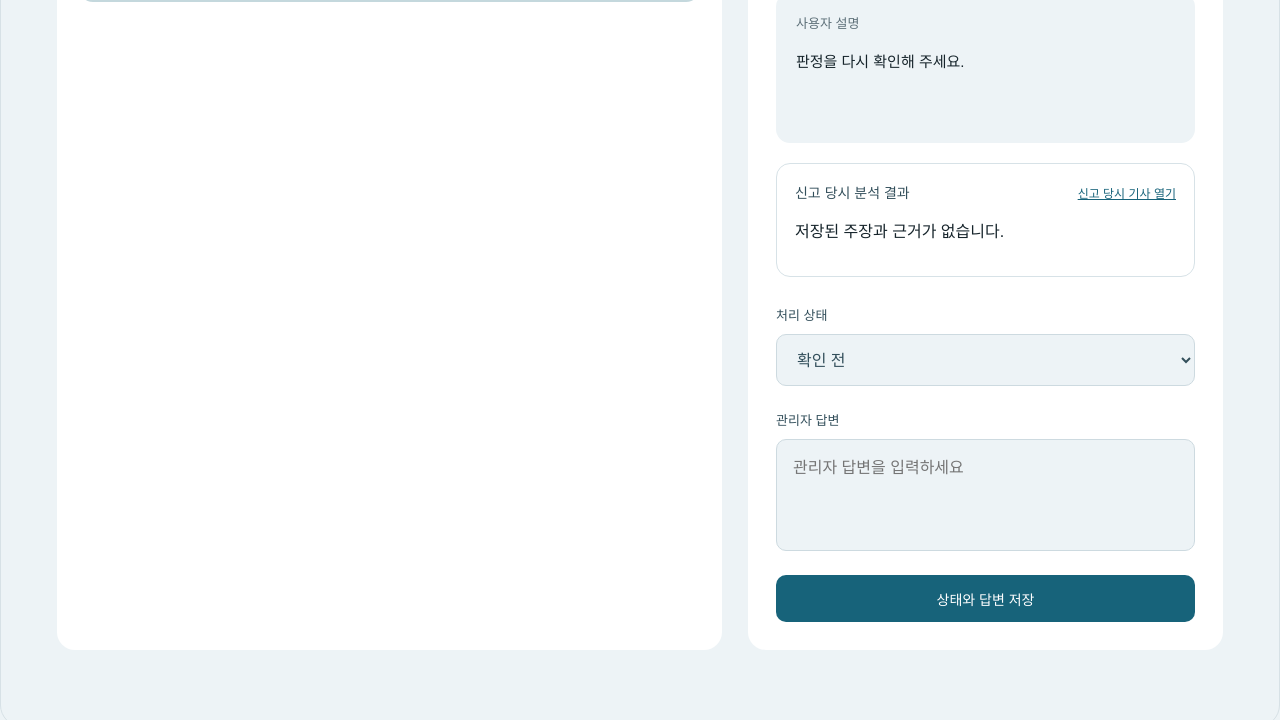
it: AdminReportsPage API › 충돌 후 최신 상세 조회가 실패하면 사용자가 다시 요청한다
(page scrolled)
Expected: the text "판정을 다시 확인해 주세요." is shown, [796,53,964,70]
Select "처리 완료" in the dropdown labelled "처리 상태" at [986, 360], box [776,334,1195,386]
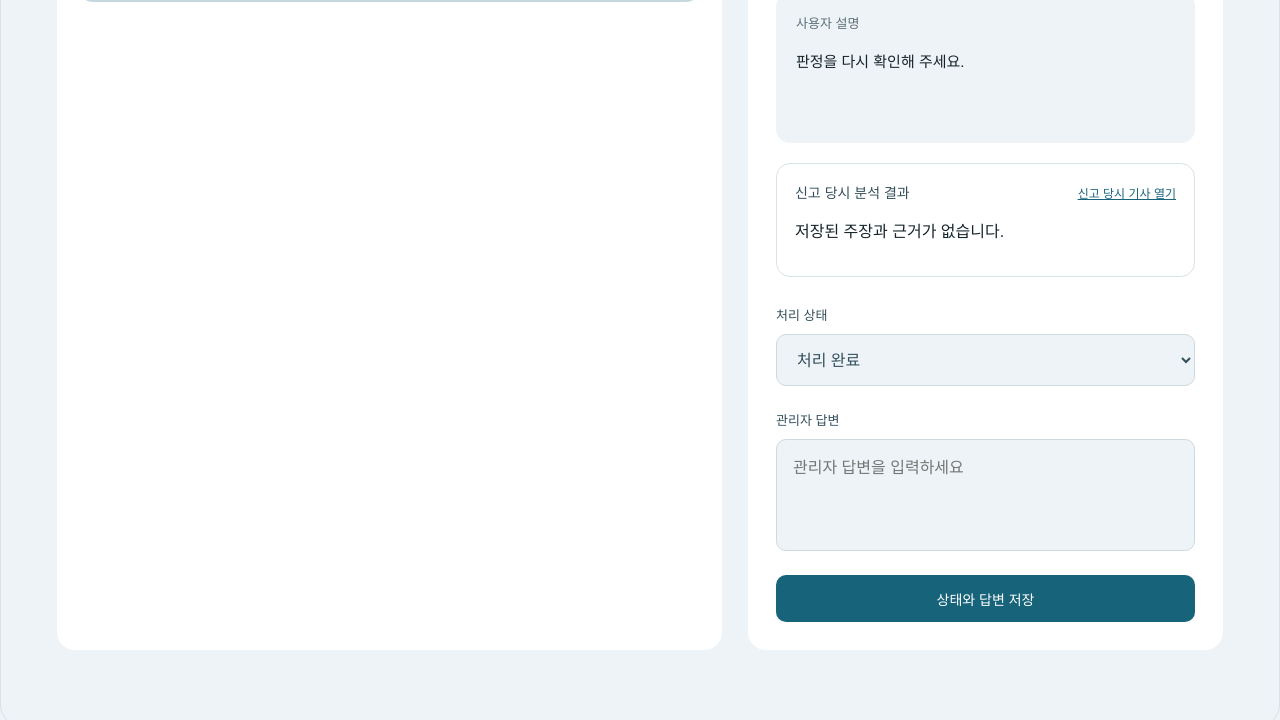
Click the button "상태와 답변 저장" at [986, 598], box [776,575,1195,622]
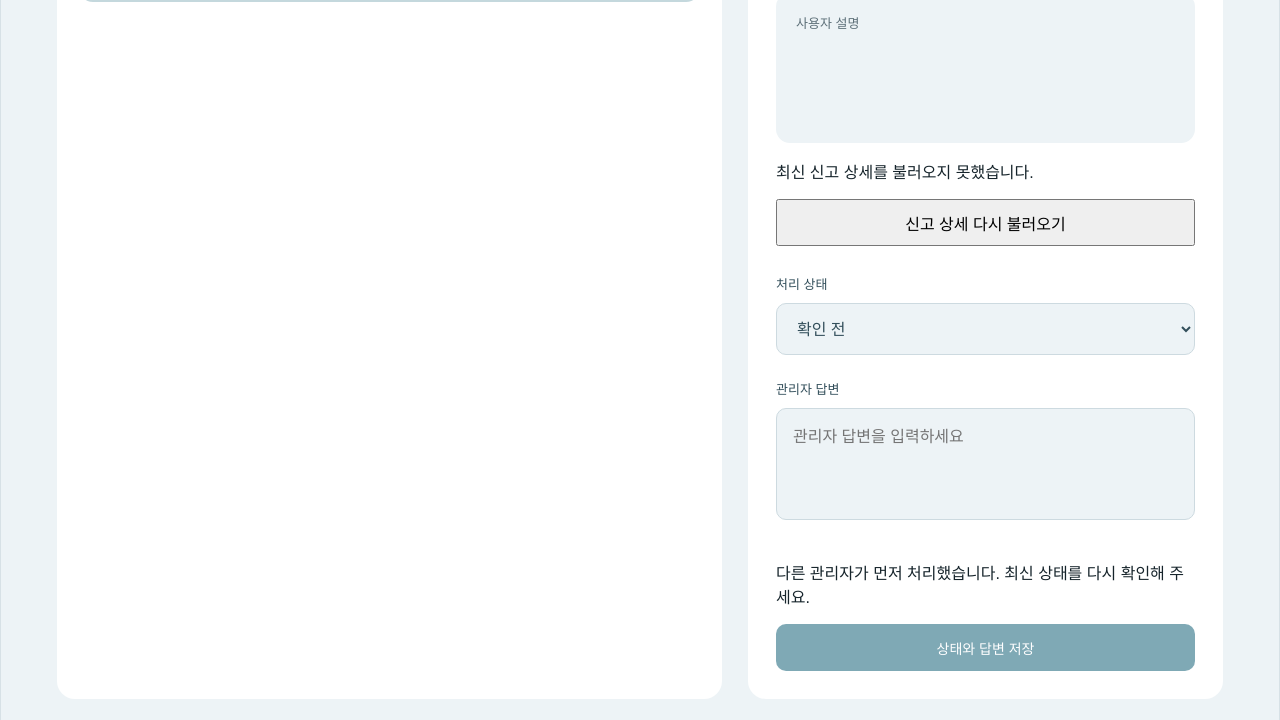
Result: the text "최신 신고 상세를 불러오지 못했습니다." is shown at [776,164,1034,181]
Click the button "신고 상세 다시 불러오기" at [986, 222], box [776,199,1195,246]
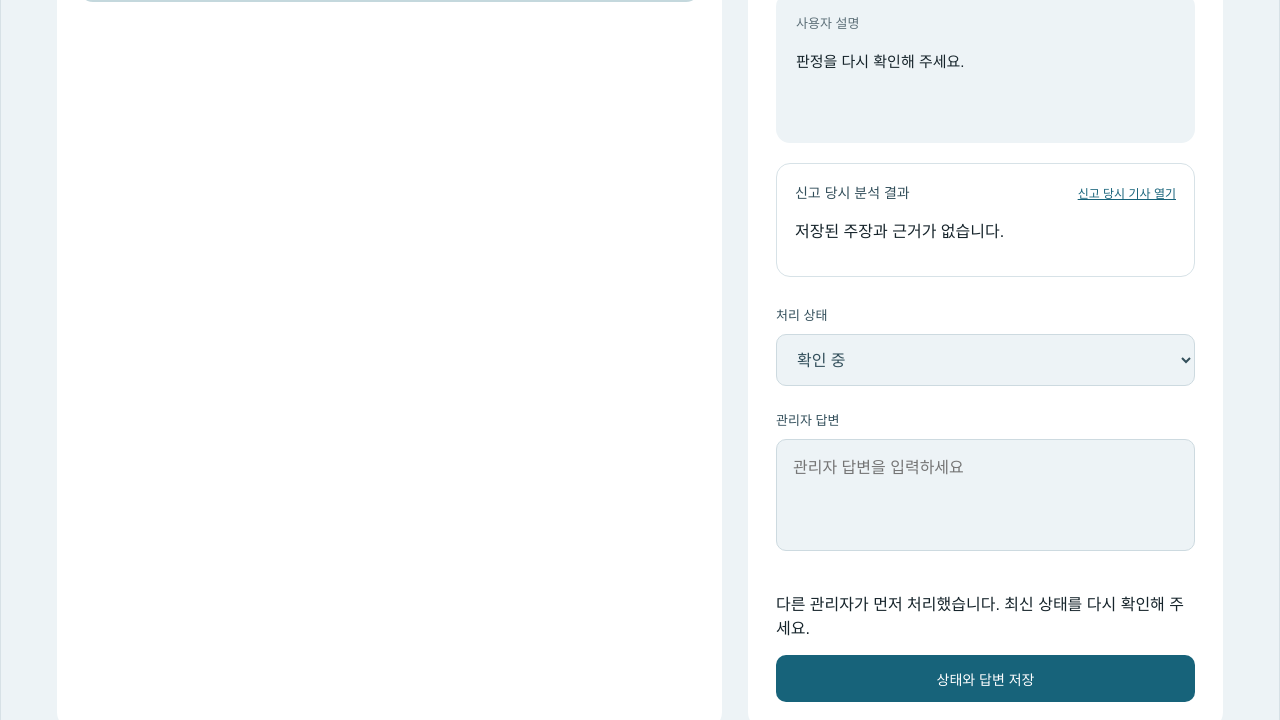
Result: the dropdown labelled "처리 상태" shows "확인 중" at [776,334,1195,386]
